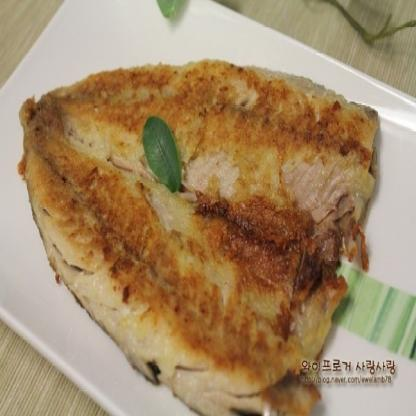Peixe: (0, 48, 392, 416)
